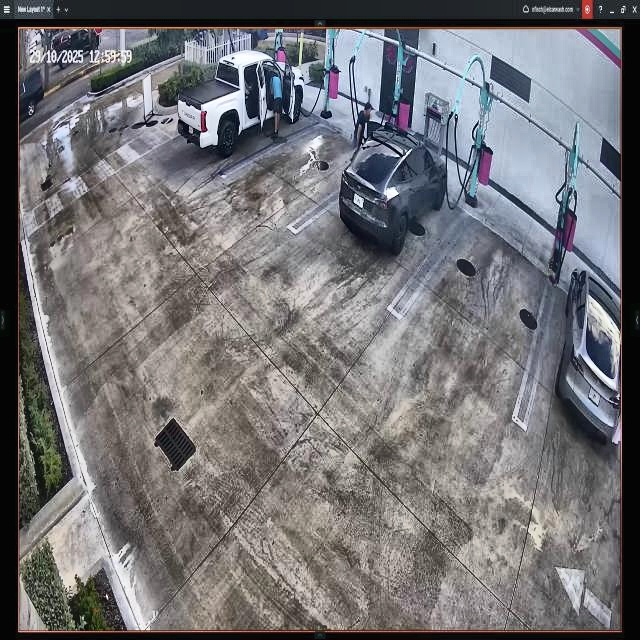Car: (174, 48, 305, 153), (340, 128, 448, 255)
